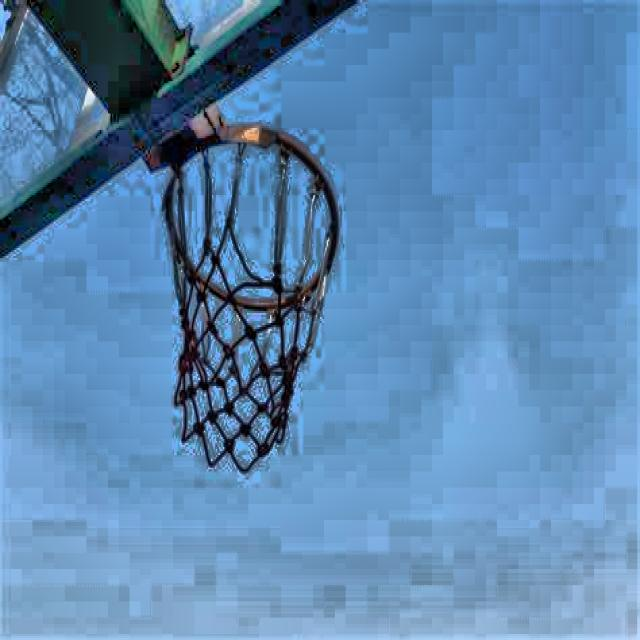rim: (160, 126, 341, 471)
